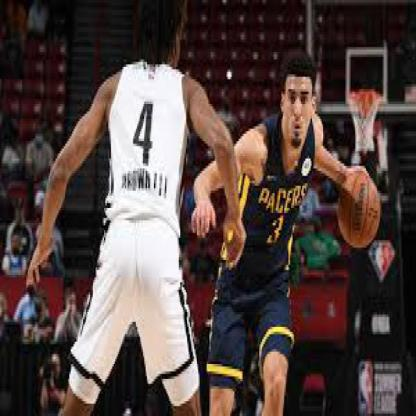basketball: (337, 171, 380, 250)
rim: (346, 86, 382, 110)
